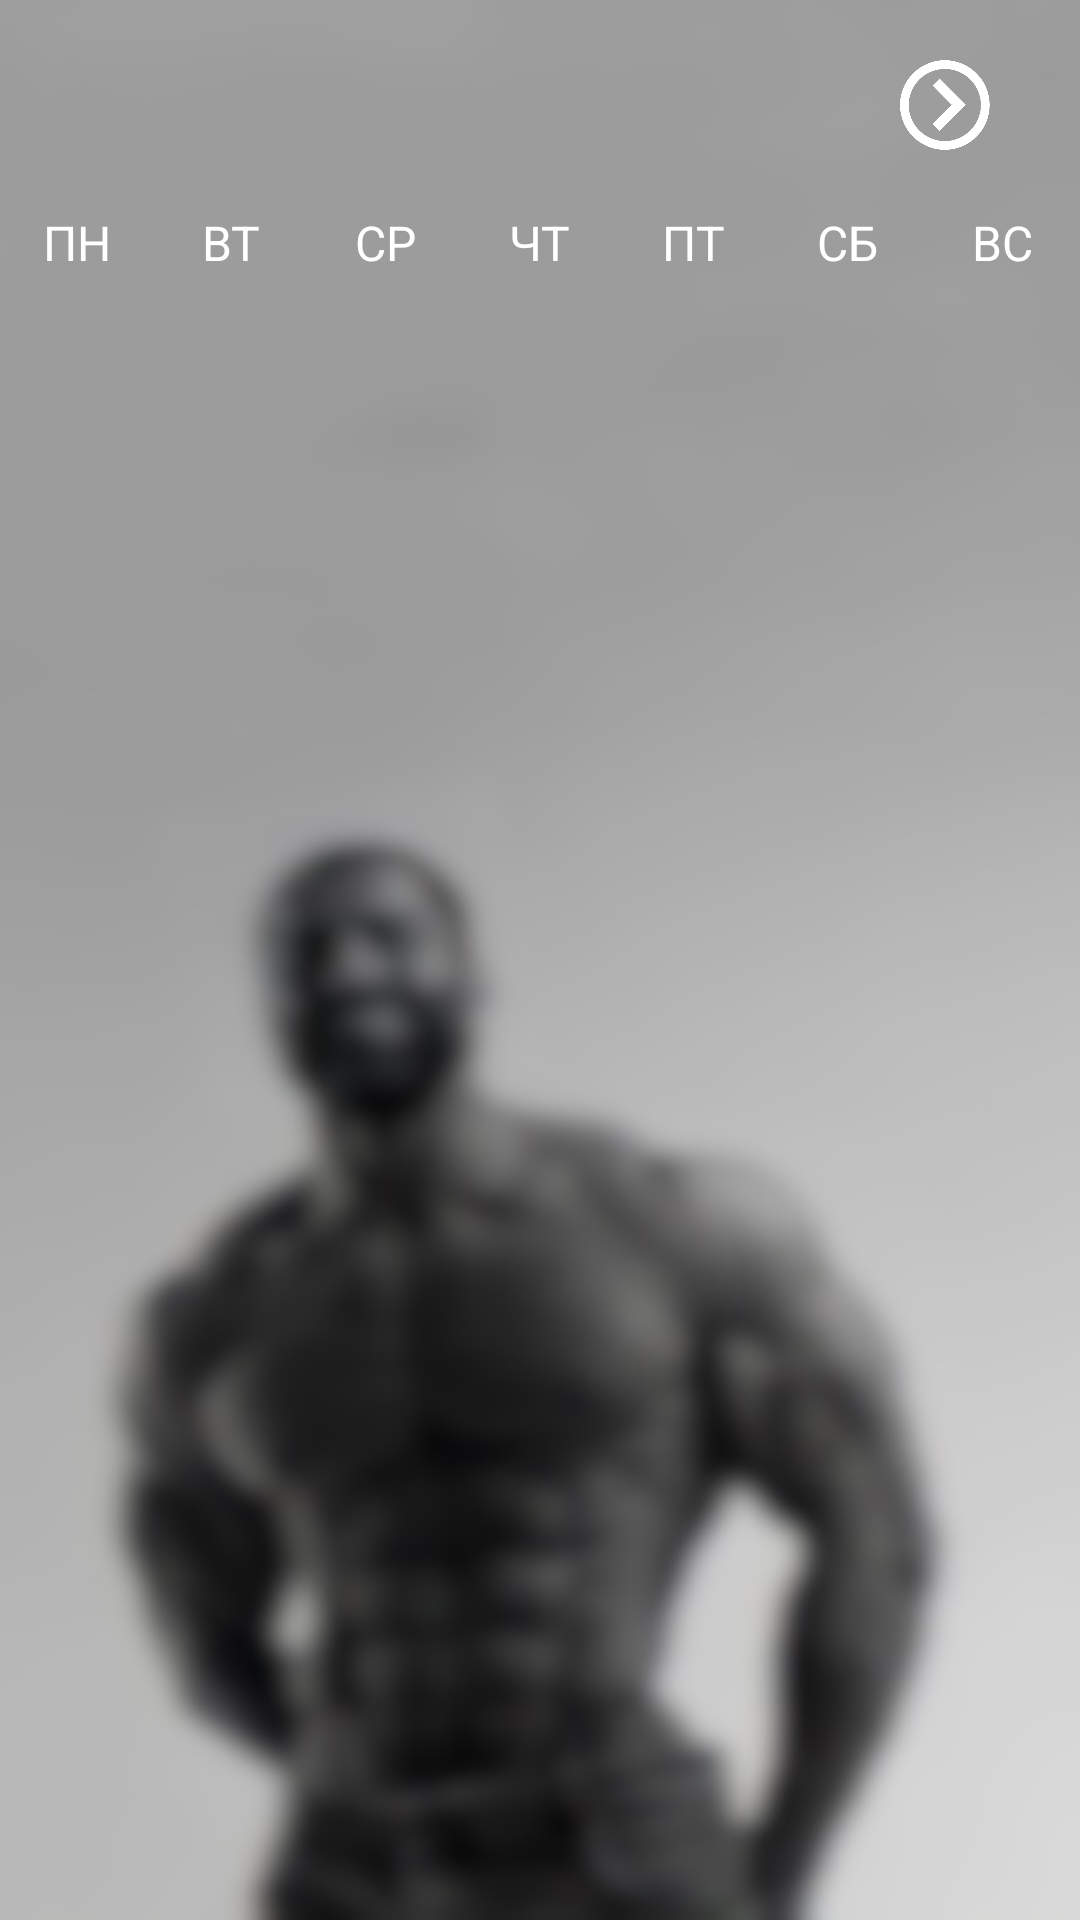

Where icons sit on this 1080×1920 app screen, as (x1, y1, x2, y2):
arrow right: (900, 60, 990, 150)
